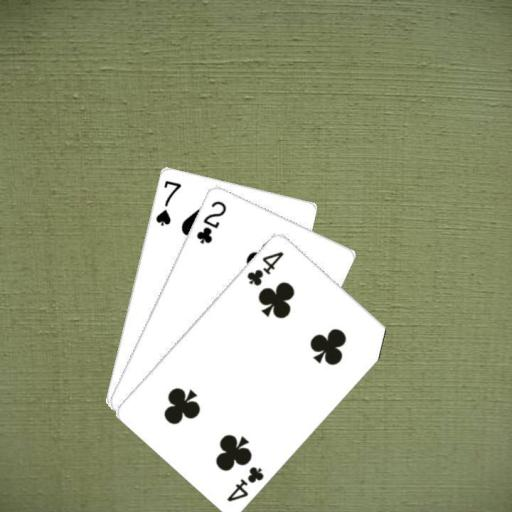card-corner: (192, 197, 228, 245), (224, 462, 266, 503), (243, 248, 285, 288), (152, 176, 183, 227)
